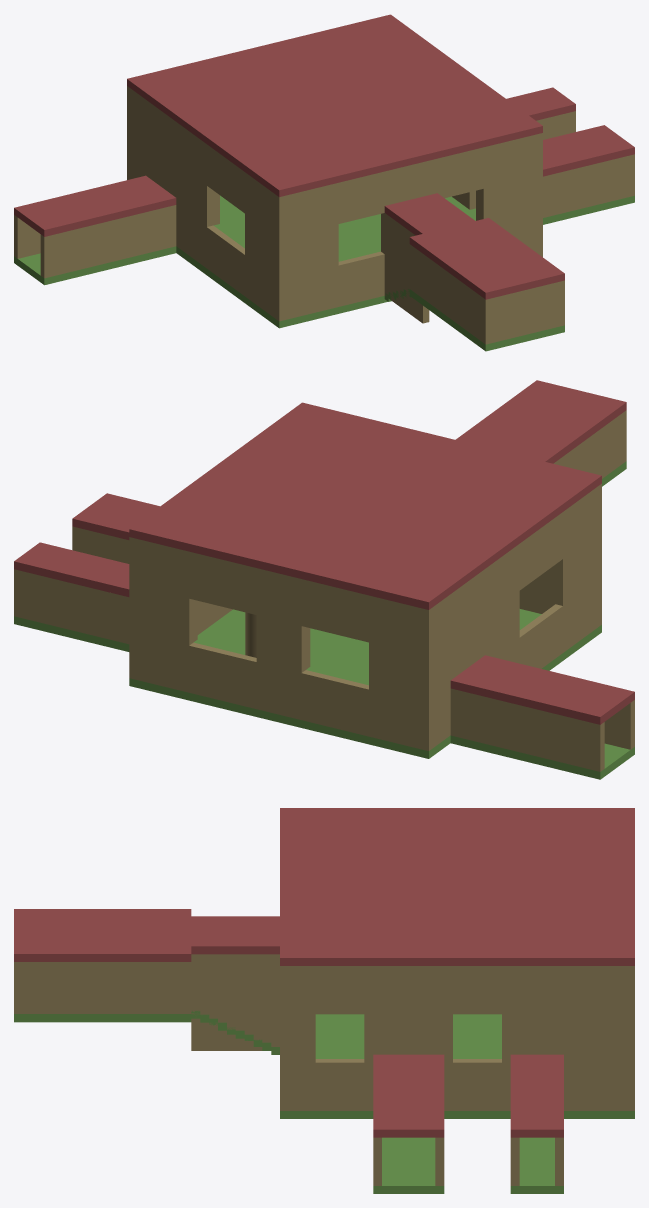
3 views of the same model, one above another, from view 1: azimuth 30°, elevation 25°; view 2: azimuth 150°, elevation 25°; view 3: azimuth 270°, elevation 25° (orthographic). The views are drawn at different scales.
Parts seen in each view (by area): view 1: Ceiling_Box, Wall_Box, Wall_Mesh, Ground_Box; view 2: Ceiling_Box, Wall_Box, Wall_Mesh, Ground_Box; view 3: Ceiling_Box, Wall_Box, Wall_Mesh, Ground_Box.
Part boxes in pixels (x1=…): Ceiling_Box: x1=14, y1=14, x2=634, y2=299; Wall_Box: x1=14, y1=111, x2=634, y2=344; Wall_Mesh: x1=127, y1=86, x2=542, y2=238; Ground_Box: x1=14, y1=195, x2=634, y2=351; Ceiling_Box: x1=14, y1=380, x2=634, y2=724; Wall_Box: x1=14, y1=410, x2=634, y2=771; Wall_Mesh: x1=129, y1=483, x2=601, y2=657; Ground_Box: x1=14, y1=461, x2=634, y2=779; Ceiling_Box: x1=14, y1=808, x2=634, y2=1137; Wall_Box: x1=14, y1=954, x2=634, y2=1185; Wall_Mesh: x1=280, y1=966, x2=634, y2=1014; Ground_Box: x1=14, y1=1010, x2=634, y2=1193.
Size of the model in its own units: 4000 by 1000 by 3500.
